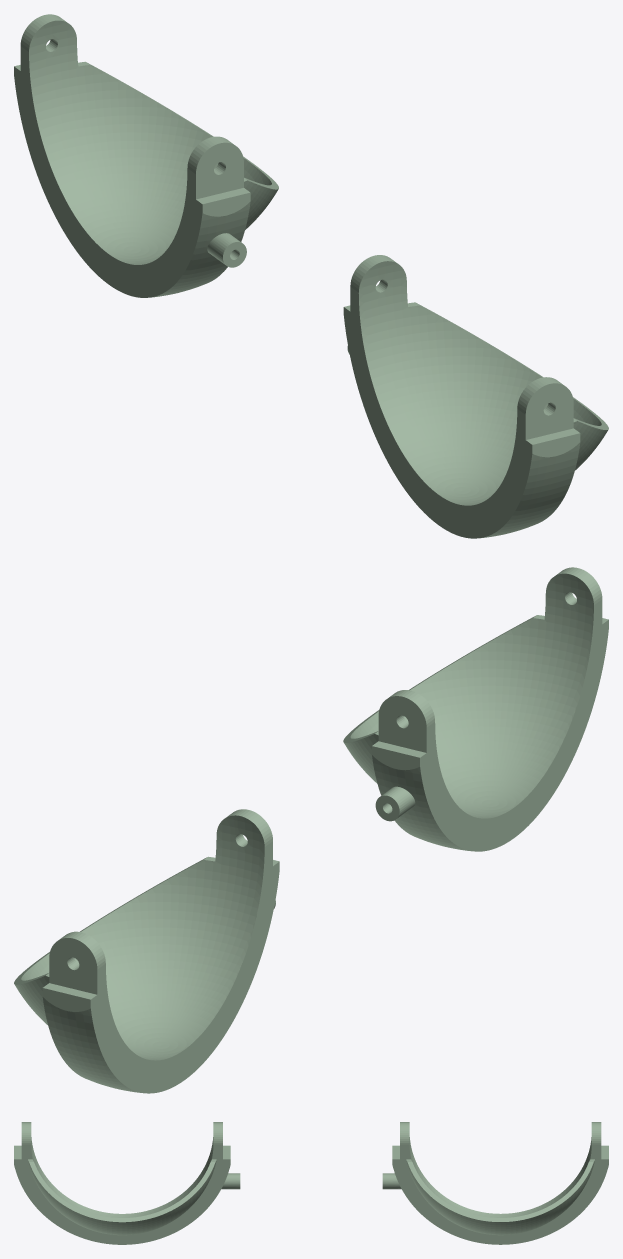
Rendered from down_eyelids.dae.
3 renders of one model, top to bottom at view 1: azimuth 30°, elevation 25°; view 2: azimuth 150°, elevation 25°; view 3: azimuth 270°, elevation 25°, orthographic. The views are drawn at different scales.
Visible parts, largest first — view 1: down_eyelids; view 2: down_eyelids; view 3: down_eyelids.
Boxes of the visible parts, bbox=[...] form: down_eyelids: bbox=[14, 14, 608, 538]; down_eyelids: bbox=[14, 567, 608, 1093]; down_eyelids: bbox=[14, 1122, 608, 1244].
Bounding box in the file's own units: 0.0191 × 0.1181 × 0.0253.
